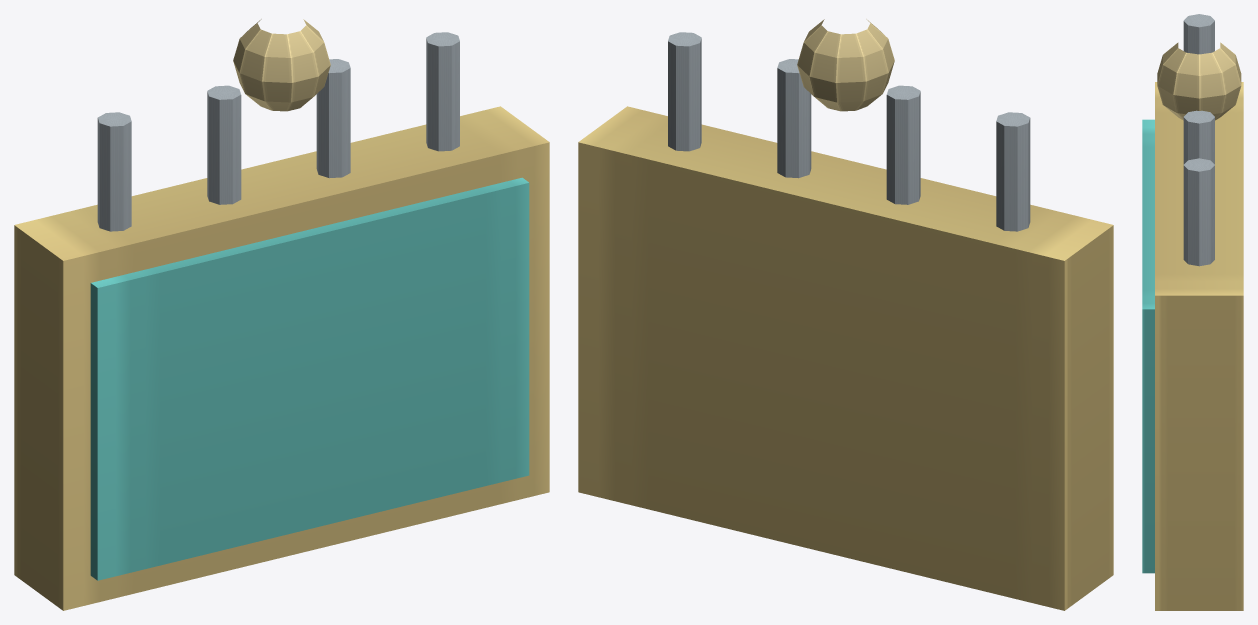
Rendered from lamp_neon.glb.
3 renders of one model, left to right at view 1: azimuth 30°, elevation 25°; view 2: azimuth 150°, elevation 25°; view 3: azimuth 270°, elevation 25°, orthographic. The views are drawn at different scales.
Visible parts, largest first — view 1: lamp_neon; view 2: lamp_neon; view 3: lamp_neon.
Boxes of the visible parts, bbox=[...] form: lamp_neon: bbox=[14, 19, 549, 610]; lamp_neon: bbox=[578, 19, 1113, 610]; lamp_neon: bbox=[1142, 14, 1243, 610].
Bounding box in the file's own units: 1.6 × 1.62 × 0.32.
Materials: 1 (1 with a texture image).
